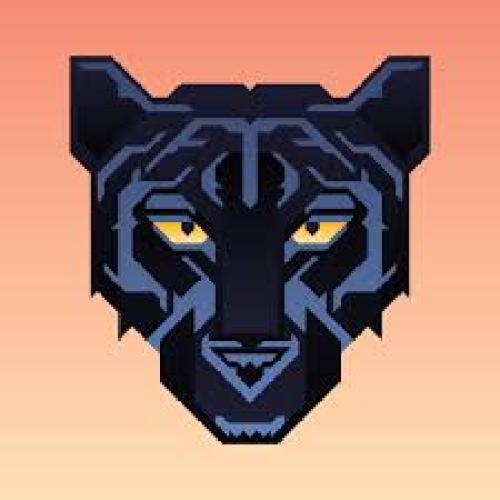panther-endangered: (71, 53, 433, 446)
